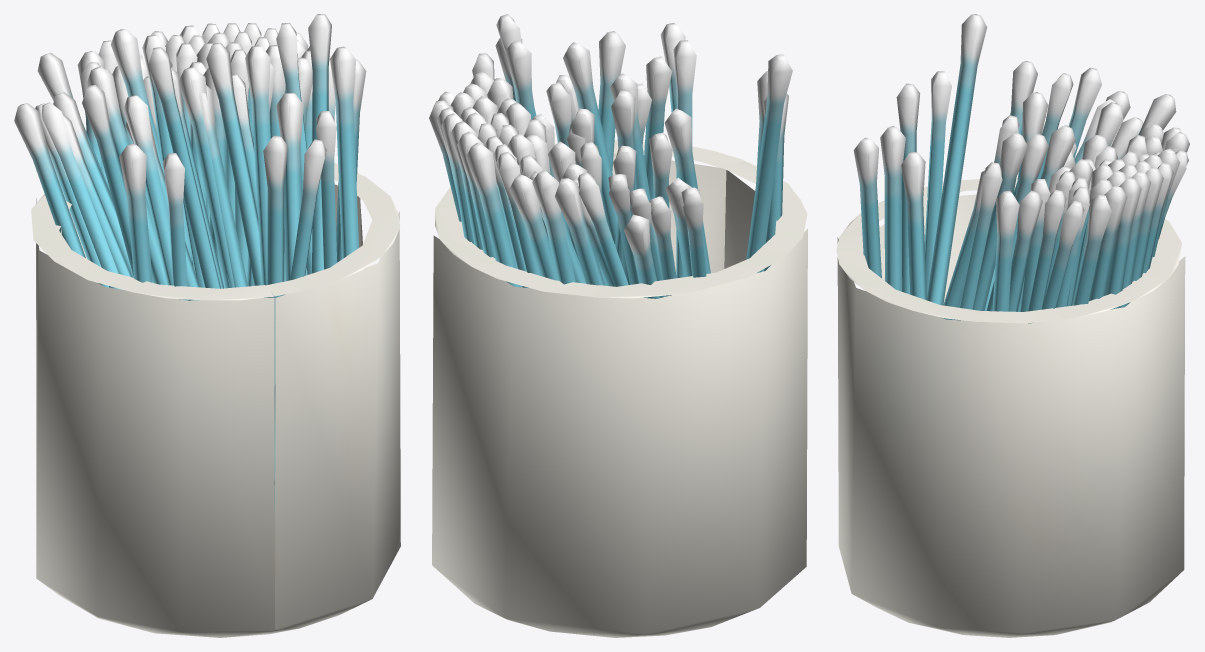
File: cotton_swabs.glb
The picture shows the model from 3 angles, left to right: view 1: azimuth 30°, elevation 25°; view 2: azimuth 150°, elevation 25°; view 3: azimuth 270°, elevation 25°; orthographic projection. The views are drawn at different scales.
Parts seen in each view (by area): view 1: Cotton_swabs_Material.002_0; view 2: Cotton_swabs_Material.002_0; view 3: Cotton_swabs_Material.002_0.
Part boxes in pixels (x1,y1,x2,y2): Cotton_swabs_Material.002_0: (14, 14, 400, 637); Cotton_swabs_Material.002_0: (429, 14, 807, 637); Cotton_swabs_Material.002_0: (836, 14, 1189, 637).
Size of the model in its own units: 0.2007 by 0.315 by 0.2056.
1 material, 1 textured.
